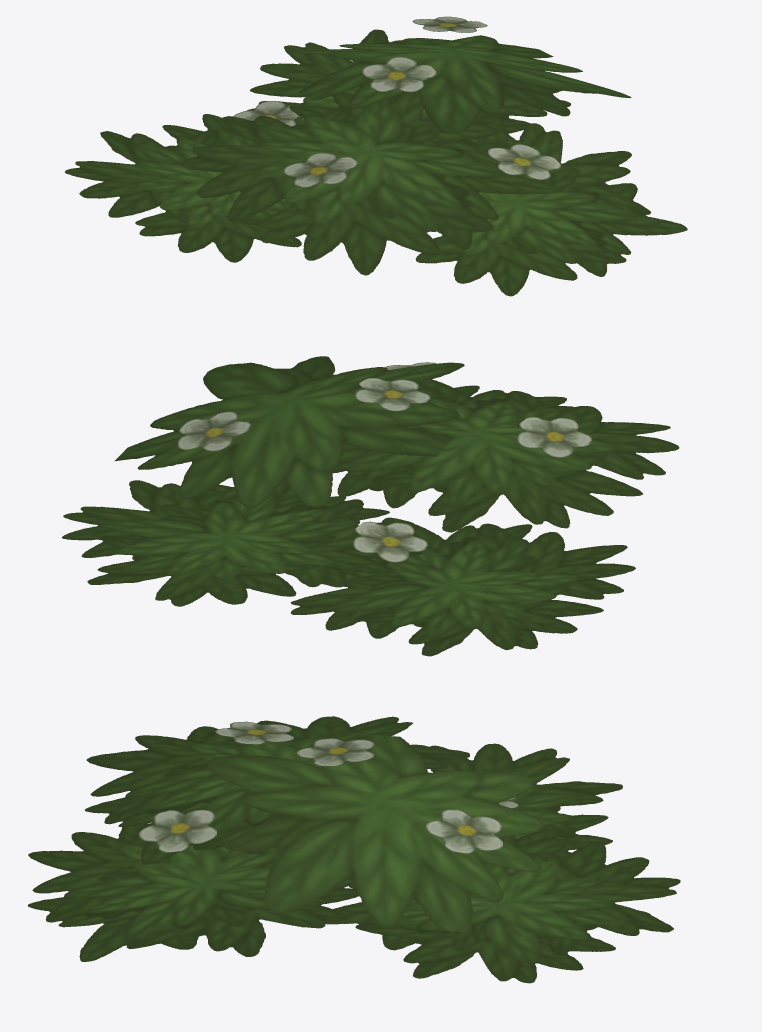
The model's file is Bush_1_2.fbx.
The picture shows the model from 3 angles, top to bottom: view 1: azimuth 30°, elevation 25°; view 2: azimuth 150°, elevation 25°; view 3: azimuth 270°, elevation 25°; orthographic projection. The views are drawn at different scales.
Parts seen in each view (by area): view 1: Bush_1_2; view 2: Bush_1_2; view 3: Bush_1_2.
Part boxes in pixels (x1,y1,x2,y2): Bush_1_2: (64,16,687,296); Bush_1_2: (62,356,679,656); Bush_1_2: (27,716,680,983).
Size of the model in its own units: 271 by 62.22 by 296.
